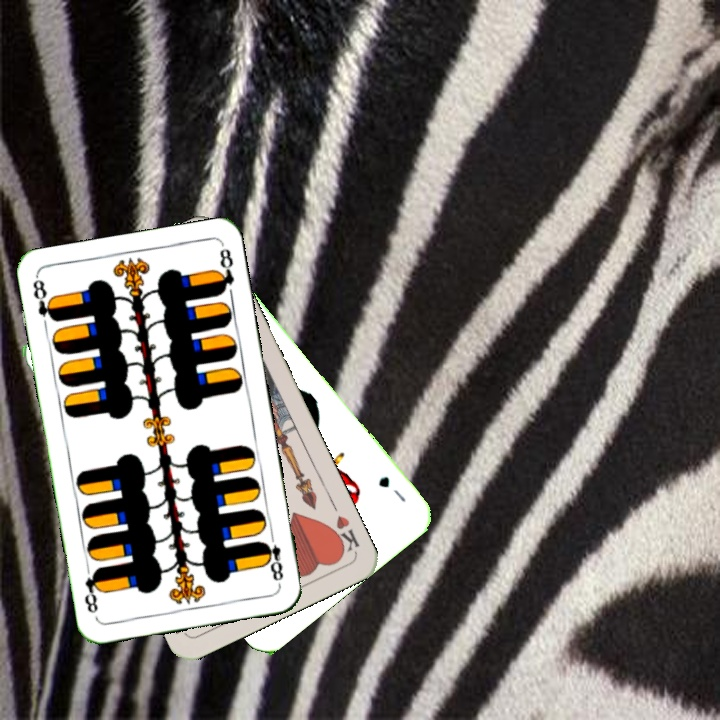E8: (258, 528, 286, 587), (28, 274, 59, 325)
GU: (374, 472, 409, 505)
HK: (325, 499, 362, 558)
